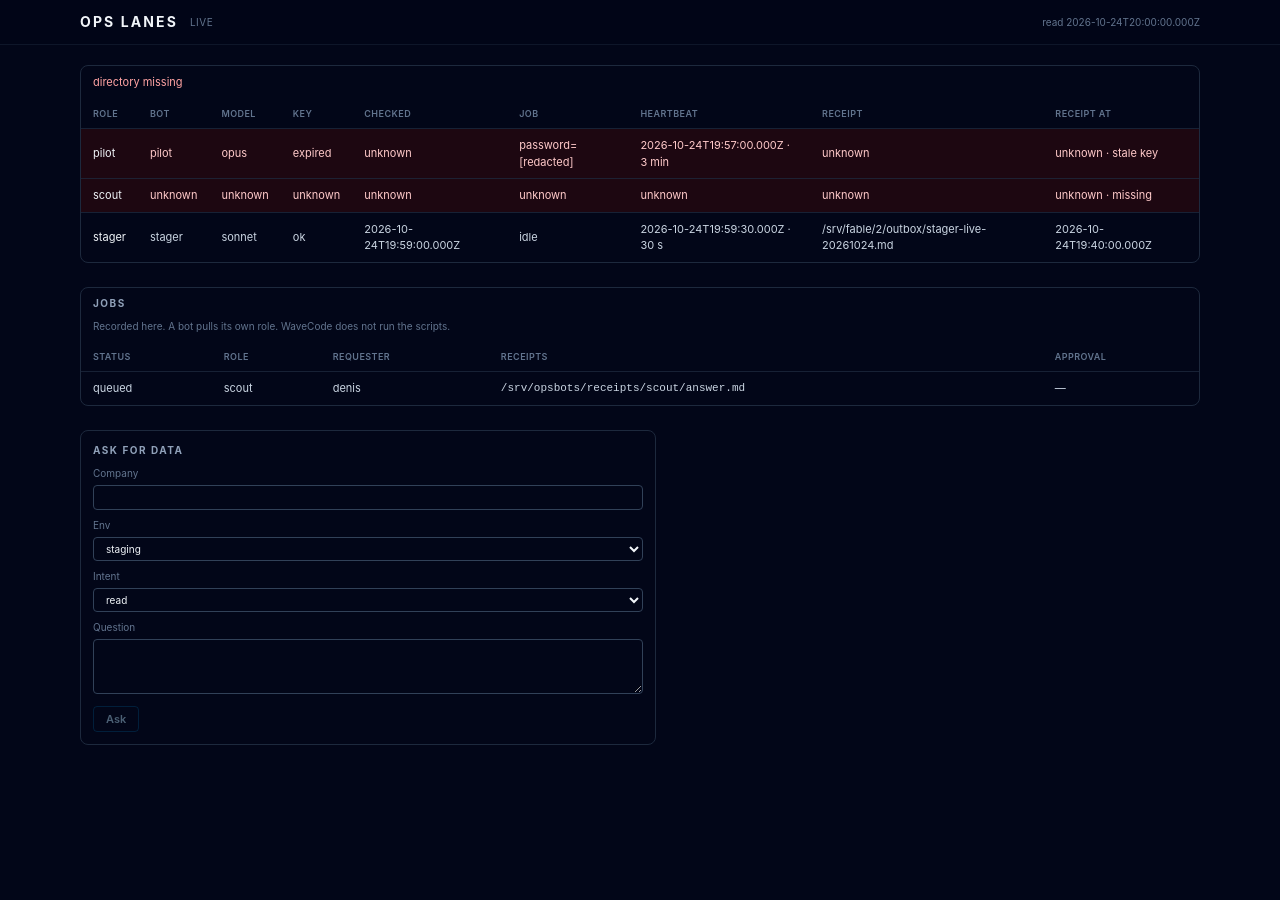
Test: Ops lanes page › lists a job and asks for data
Expected: the row with test id "ops-job-job1" shows "queued", [93,381,132,395]
Expected: the row with test id "ops-job-job1" shows "scout", [224,381,252,395]
Type "hipsl" into the field with test id "ask-company". click: point(368, 497)
box: [93,484,643,510]
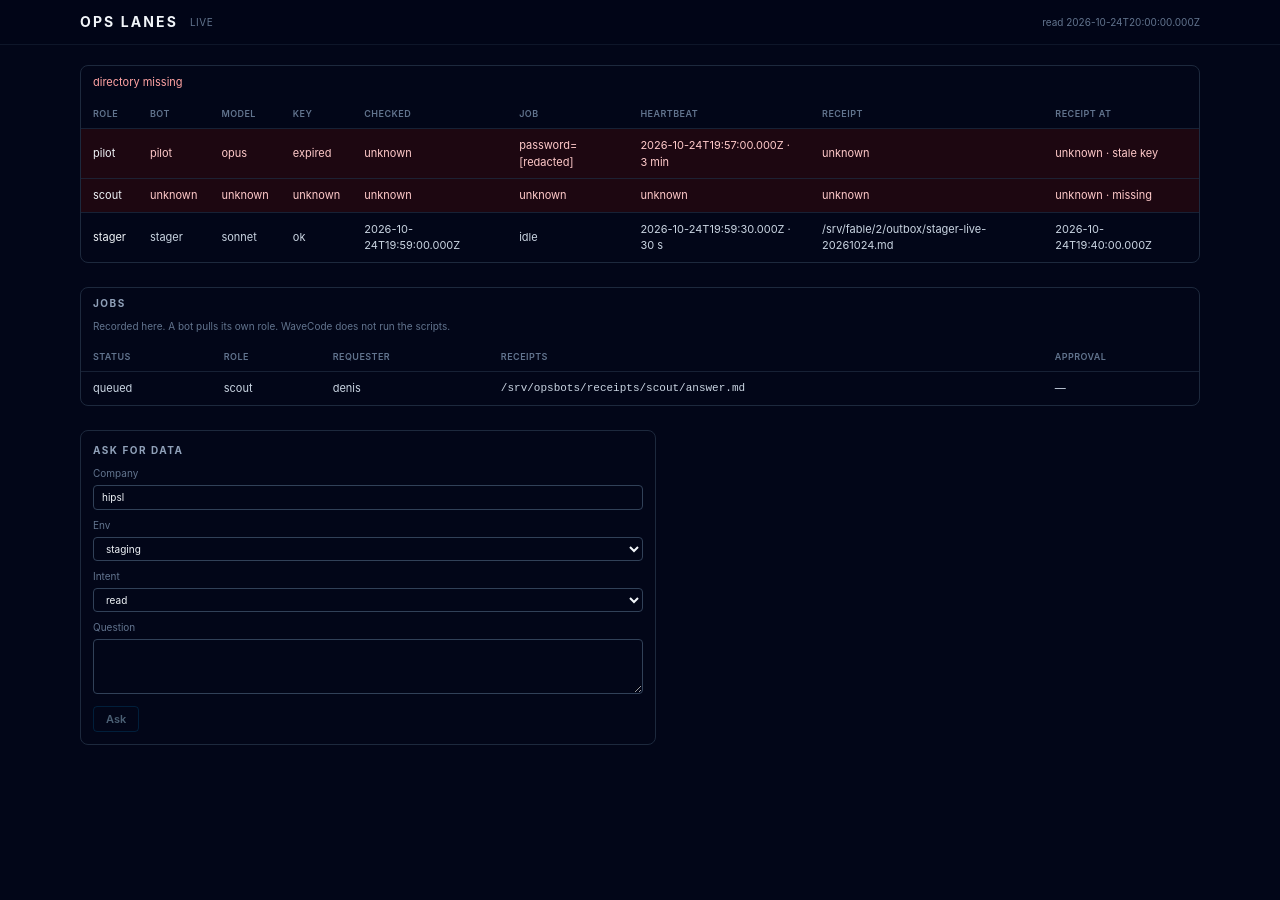
Type "what is the payroll total" into the text box with test id "ask-question". click: point(368, 666)
box: [93,638,643,694]
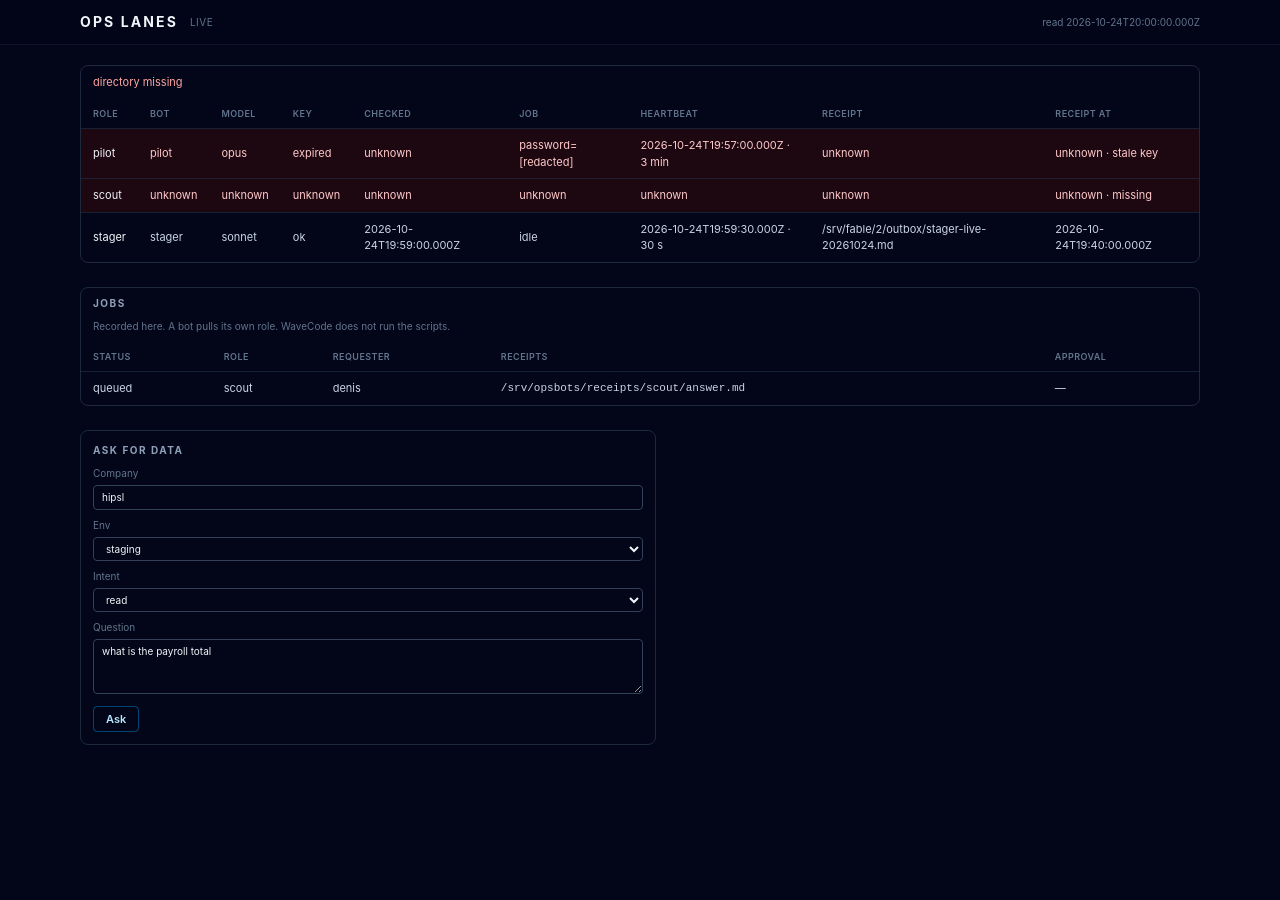
Click the button with test id "ask-submit". click: point(116, 719)
box: [93,706,139,732]
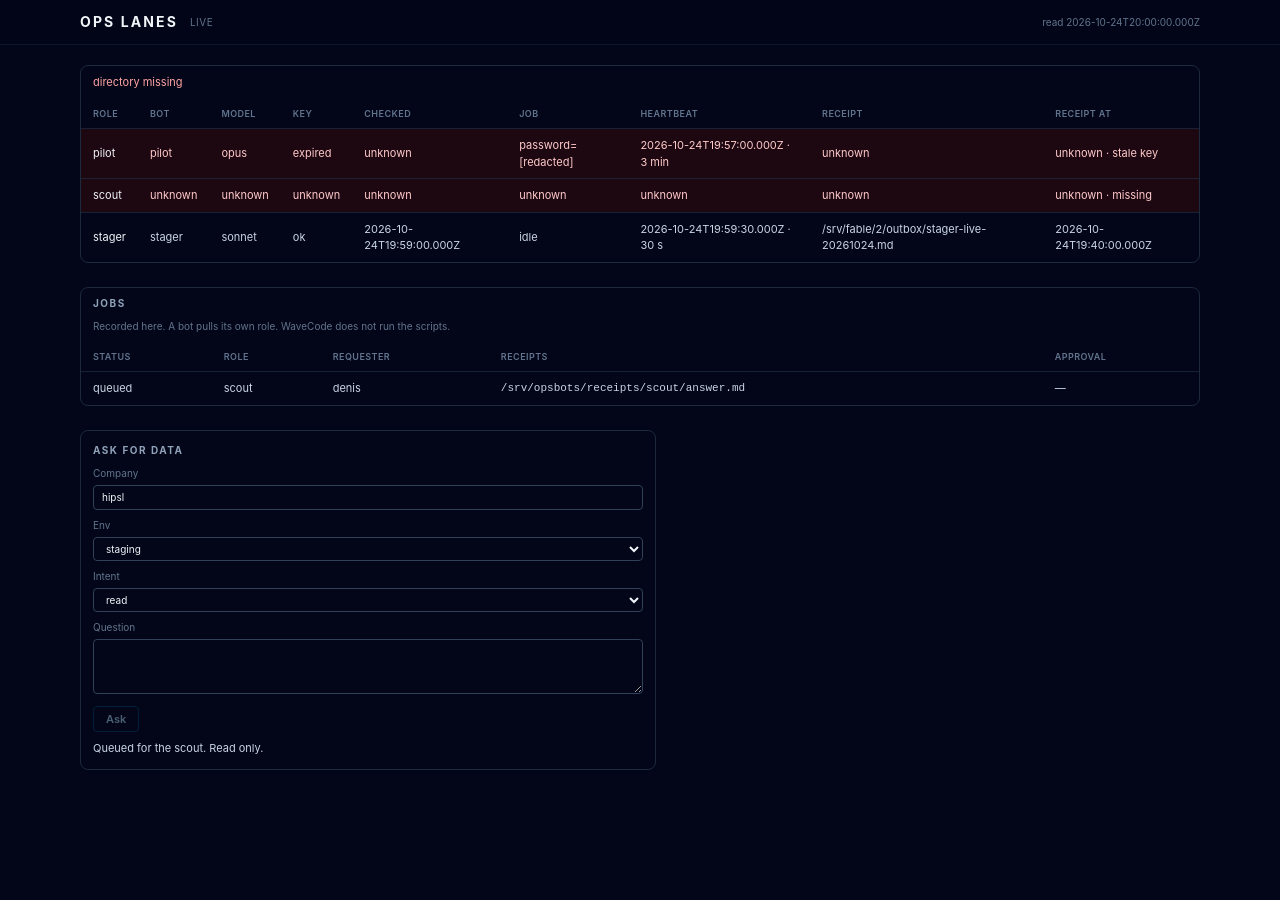
Now the text with test id "ask-note" shows "Queued for the scout", box [93,741,264,755]
